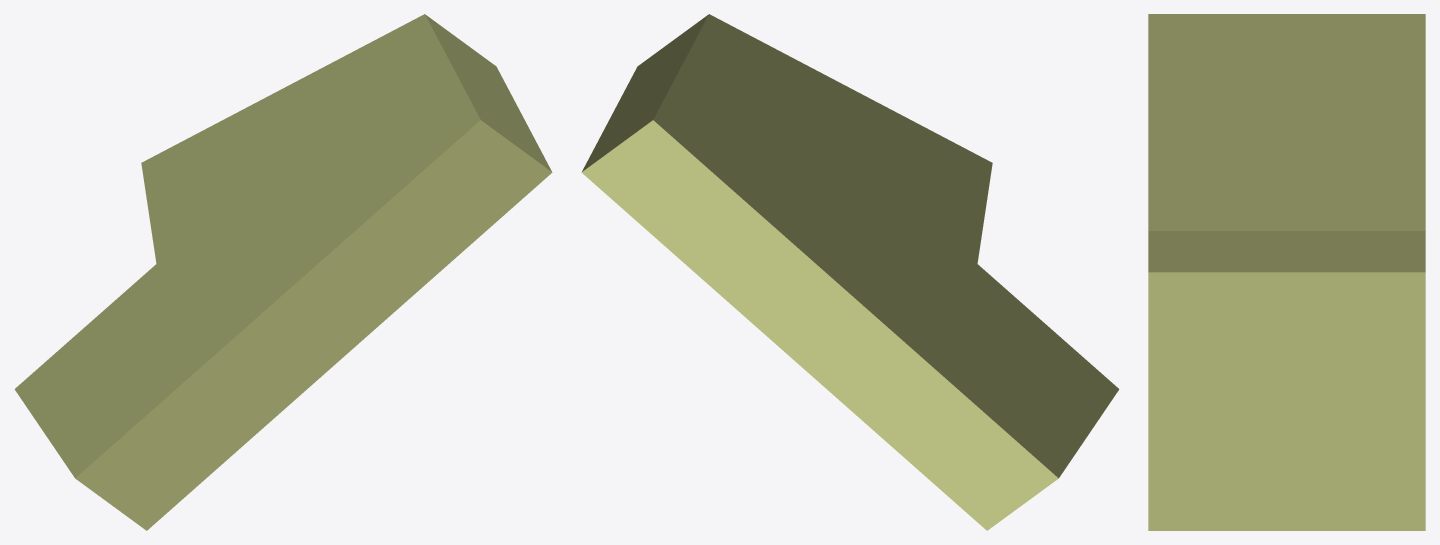
3 renders of one model, left to right at view 1: azimuth 30°, elevation 25°; view 2: azimuth 150°, elevation 25°; view 3: azimuth 270°, elevation 25°, orthographic. The views are drawn at different scales.
Parts seen in each view (by area): view 1: 0_0_1_1_2_2_1_0_0_2; view 2: 0_0_1_1_2_2_1_0_0_2; view 3: 0_0_1_1_2_2_1_0_0_2.
Part boxes in pixels (x1=…): 0_0_1_1_2_2_1_0_0_2: x1=14, y1=14, x2=552, y2=530; 0_0_1_1_2_2_1_0_0_2: x1=581, y1=14, x2=1119, y2=530; 0_0_1_1_2_2_1_0_0_2: x1=1148, y1=14, x2=1425, y2=530.
Bounding box in the file's own units: 22.53 × 17.5 × 6.
